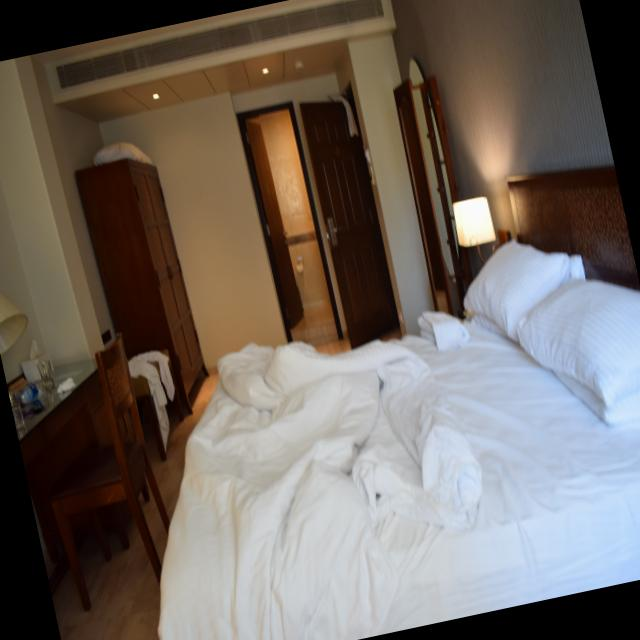mess: (188, 271, 640, 571), (3, 329, 120, 482), (132, 332, 198, 425)
